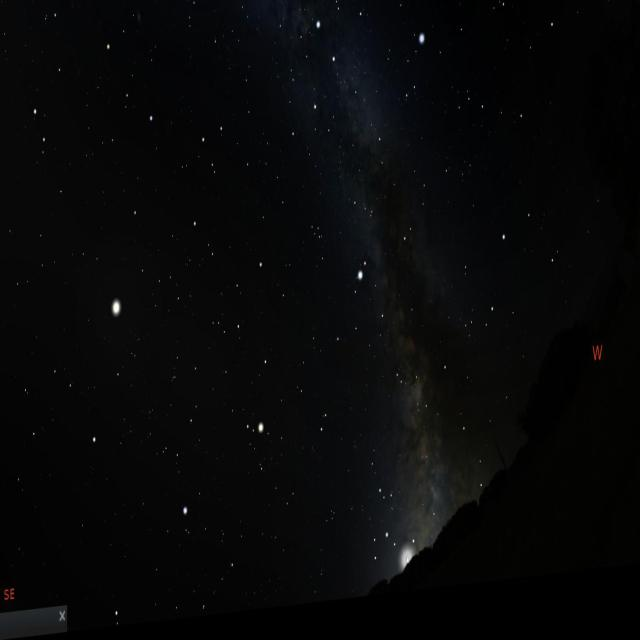aquila: (334, 255, 419, 417)
cygnus: (310, 2, 386, 168)
lyra: (398, 32, 432, 131)
moon: (396, 538, 421, 598)
